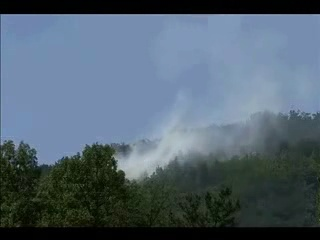smoke: (196, 14, 291, 163), (108, 129, 198, 184)
